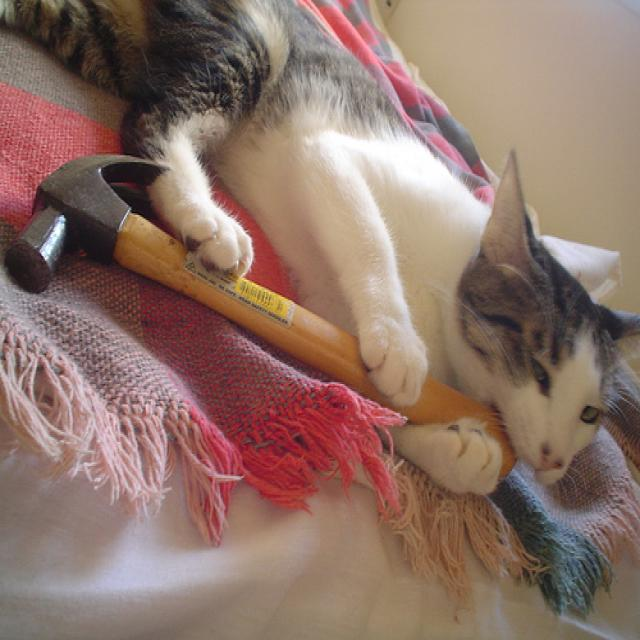hammer: (3, 132, 389, 422)
